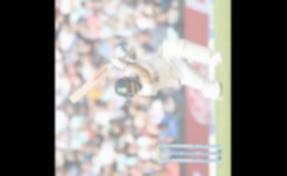batsman: (72, 33, 231, 120)
